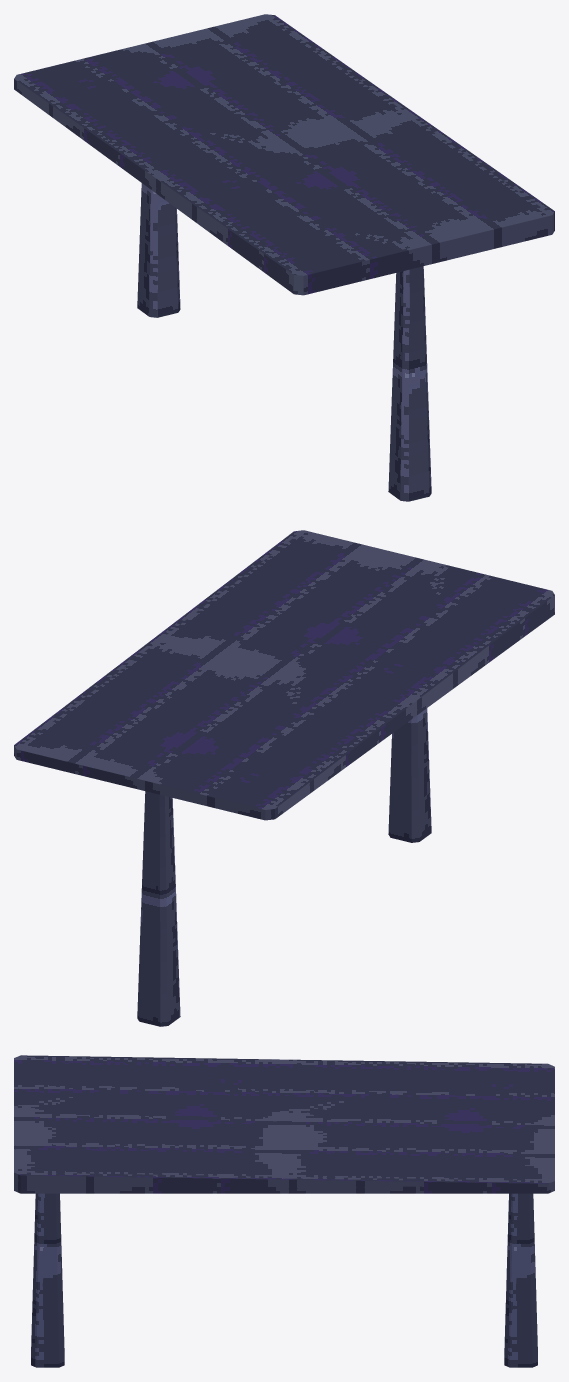
Rendered from cyroom.canopy.glb.
The picture shows the model from 3 angles, top to bottom: view 1: azimuth 30°, elevation 25°; view 2: azimuth 150°, elevation 25°; view 3: azimuth 270°, elevation 25°; orthographic projection. The views are drawn at different scales.
Visible parts, largest first — view 1: kit_body; view 2: kit_body; view 3: kit_body.
Boxes of the visible parts, <box> form: kit_body: <box>14,14,554,501</box>; kit_body: <box>14,530,554,1026</box>; kit_body: <box>14,1055,554,1367</box>.
Bounding box in the file's own units: 4.2 × 4 × 8.
4 materials, 4 textured.
